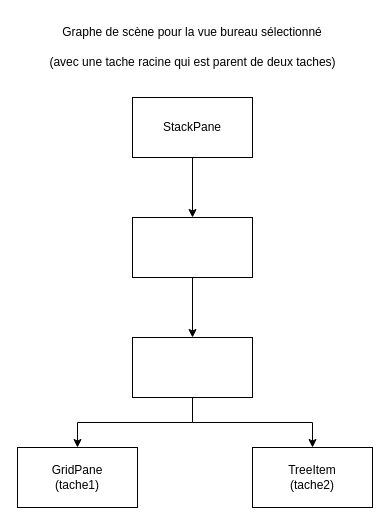
This 390x525 diagram has some shape labels left out. Here are the shapes that lost their labels. From the top down, the centre of each, then its label:
At (x=192, y=247): "GridPane".
At (x=192, y=367): "GridPane (racine)".
